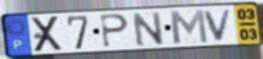7: (66, 15, 90, 51)
M: (167, 8, 210, 45)
N: (130, 10, 167, 48)
P: (99, 13, 131, 49)
V: (202, 8, 234, 42)
X: (30, 15, 66, 54)
